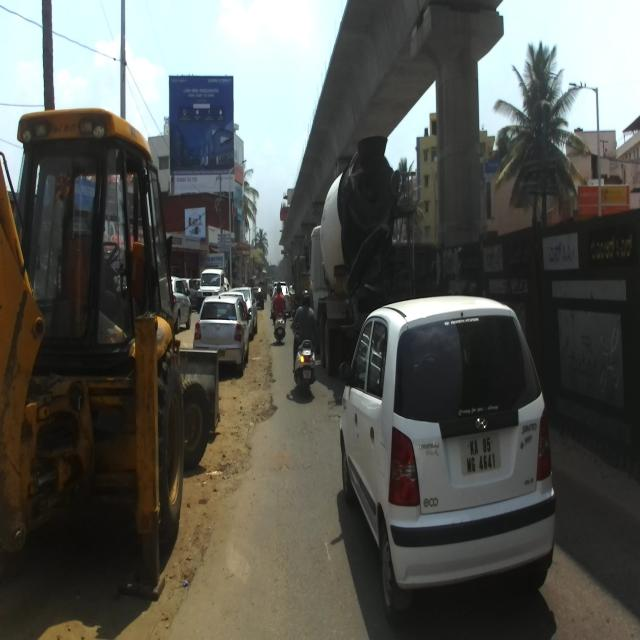car: (337, 294, 556, 627), (194, 292, 252, 378), (196, 265, 226, 309)
scooter: (288, 319, 319, 402), (273, 308, 285, 344)
truck: (304, 136, 417, 381)
